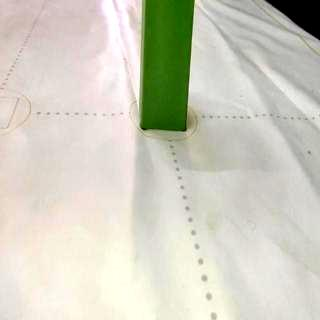greenbox: (137, 0, 196, 131)
